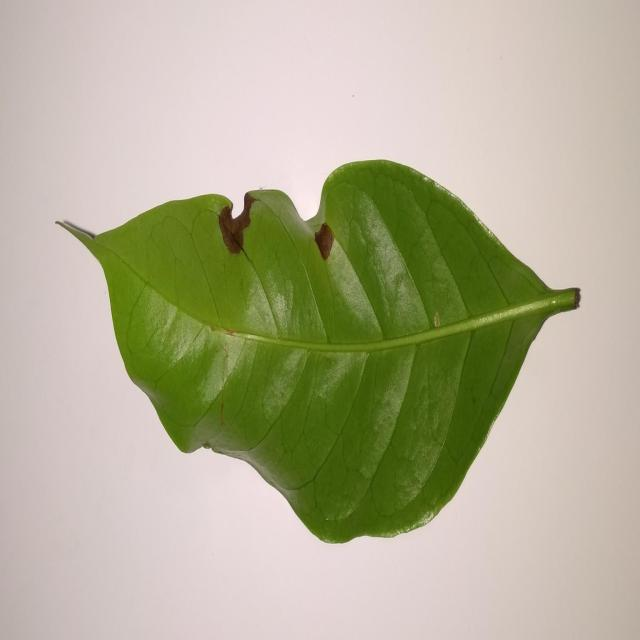phoma: (218, 192, 256, 253), (314, 223, 336, 260)
